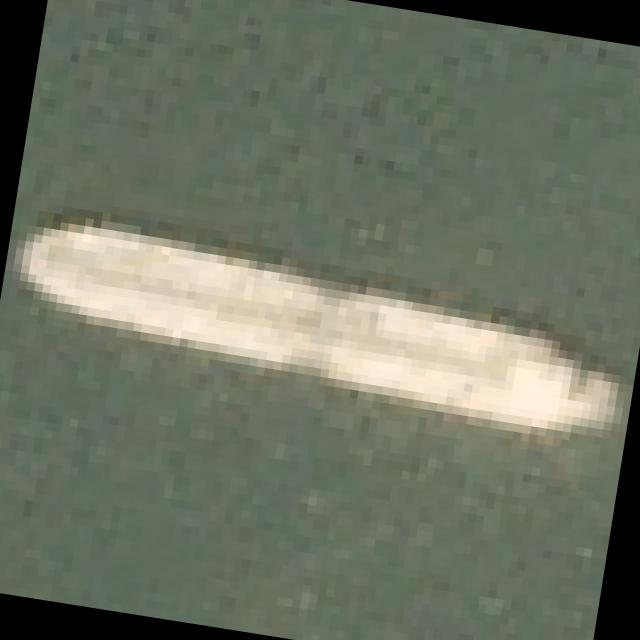ship: (0, 187, 635, 478)
